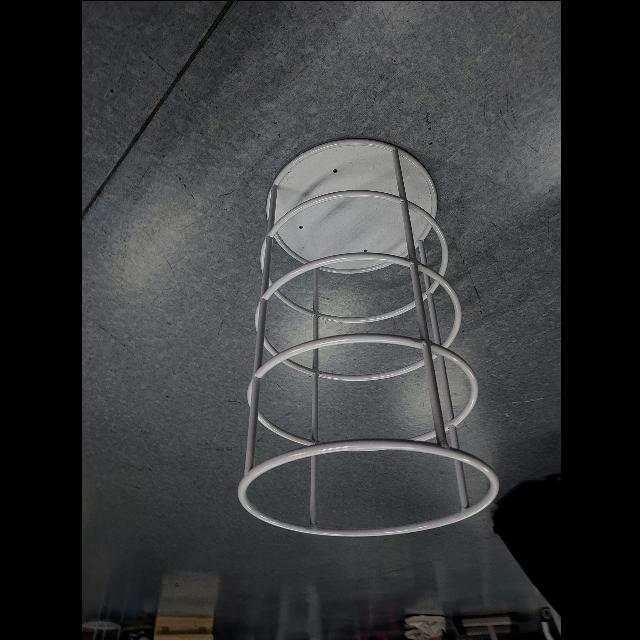S: (233, 133, 503, 542)
